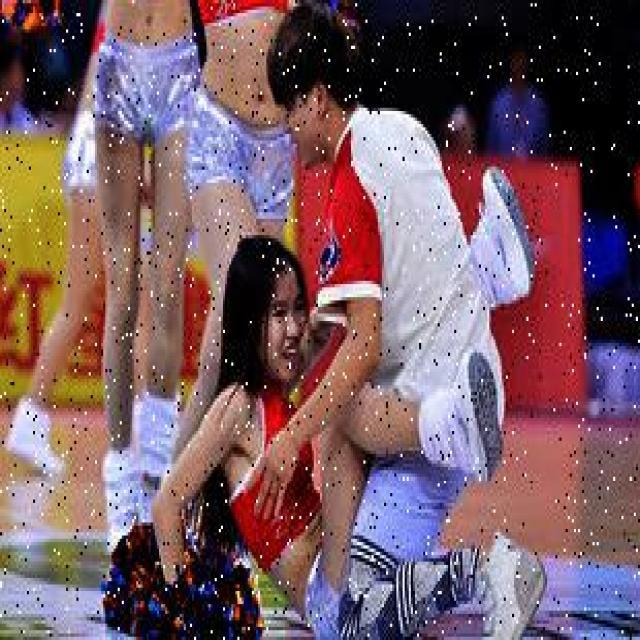fall: (180, 258, 382, 601)
